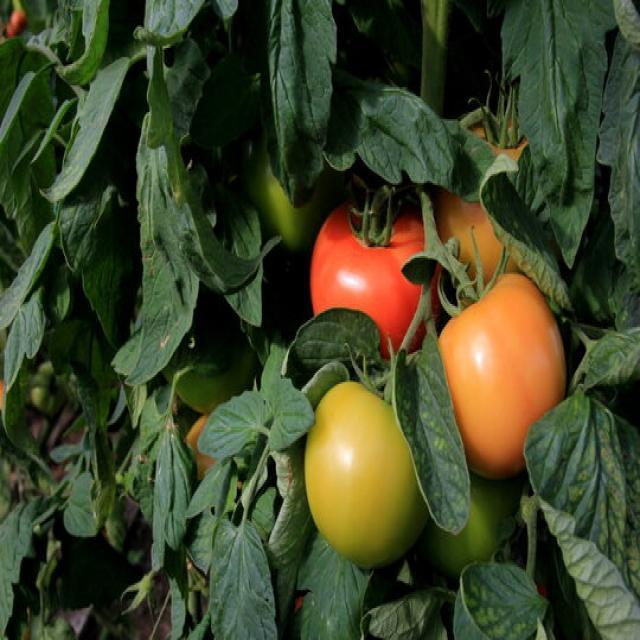sari: (406, 302, 616, 478)
yesil: (252, 398, 430, 550)
